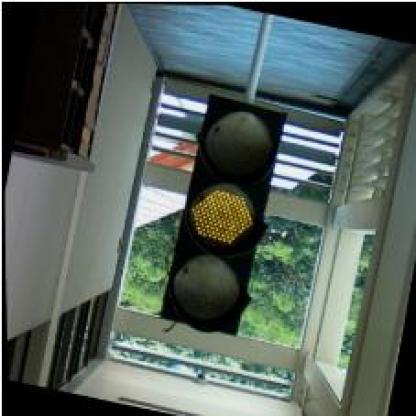yellow: (152, 90, 291, 339)
